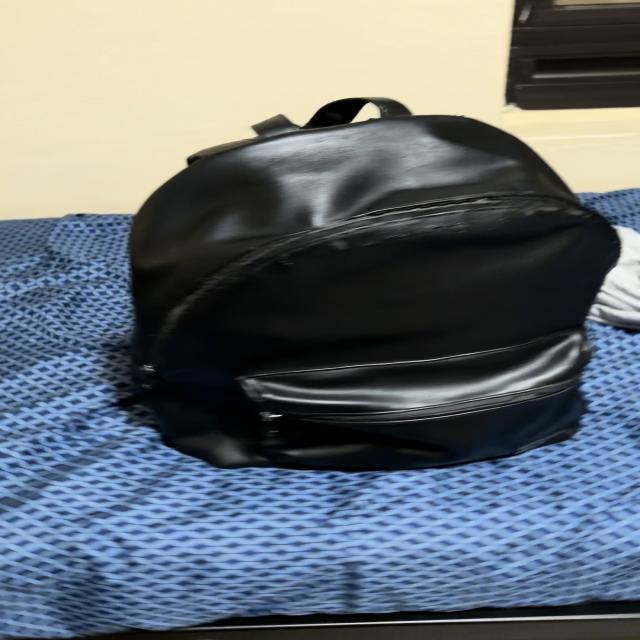backpack: (130, 98, 618, 469)
